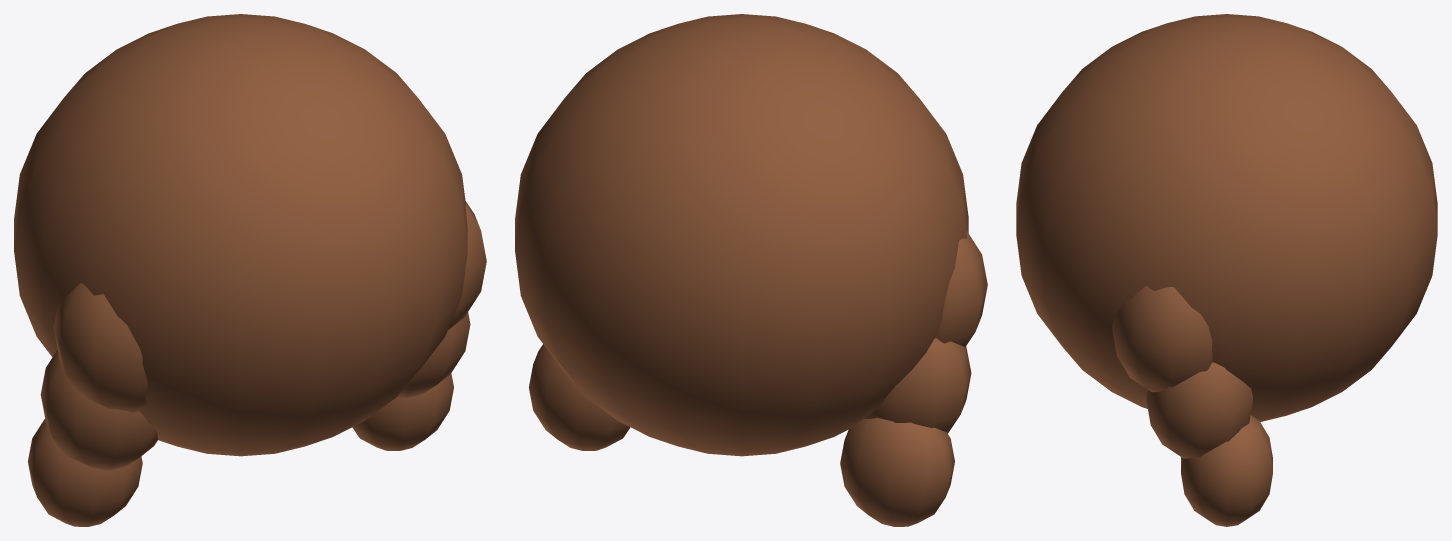
File: hair_wavy.glb
3 views of the same model, side by side, from view 1: azimuth 30°, elevation 25°; view 2: azimuth 150°, elevation 25°; view 3: azimuth 270°, elevation 25° (orthographic). The views are drawn at different scales.
Visible parts, largest first — view 1: Hair; view 2: Hair; view 3: Hair.
Part boxes in pixels (<box>): Hair: <box>14,14,486,526</box>; Hair: <box>515,14,987,526</box>; Hair: <box>1016,14,1437,526</box>.
Size of the model in its own units: 14.36 by 14.69 by 13.46.
